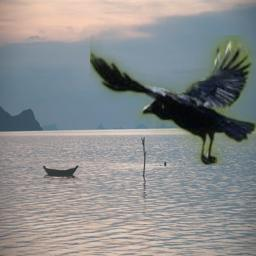Crow: (90, 35, 256, 165)
